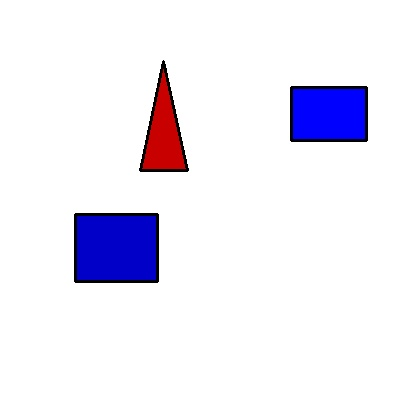rectangle: (75, 214, 157, 281), (291, 87, 366, 140)
triangle: (140, 61, 187, 170)
